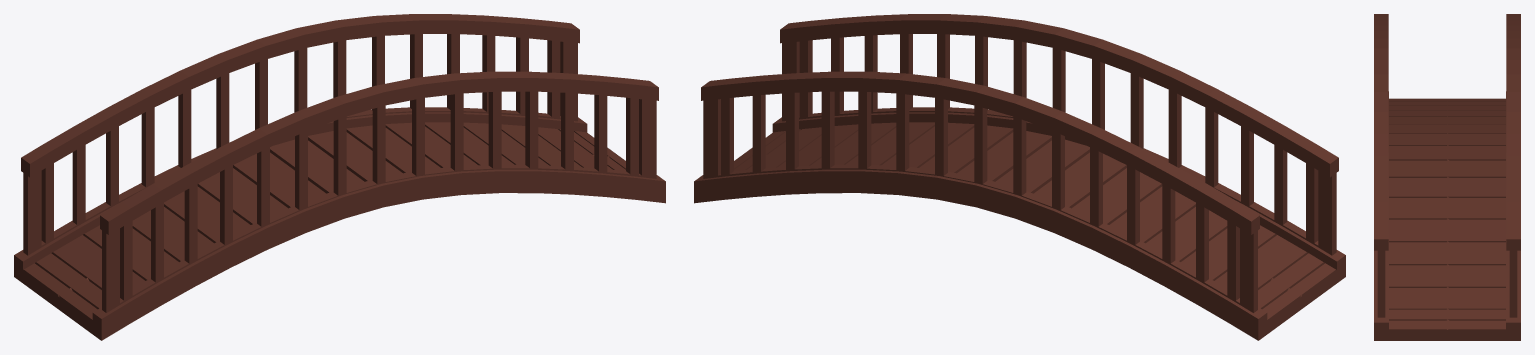
The model's file is bridge.fbx.
3 renders of one model, left to right at view 1: azimuth 30°, elevation 25°; view 2: azimuth 150°, elevation 25°; view 3: azimuth 270°, elevation 25°, orthographic. The views are drawn at different scales.
Visible parts, largest first — view 1: Cube.001; view 2: Cube.001; view 3: Cube.001.
Boxes of the visible parts, x1,y1,x2,y2 form: Cube.001: [14, 14, 665, 340]; Cube.001: [694, 14, 1345, 340]; Cube.001: [1374, 14, 1520, 340].
Size of the model in its own units: 1417 by 432 by 381.
